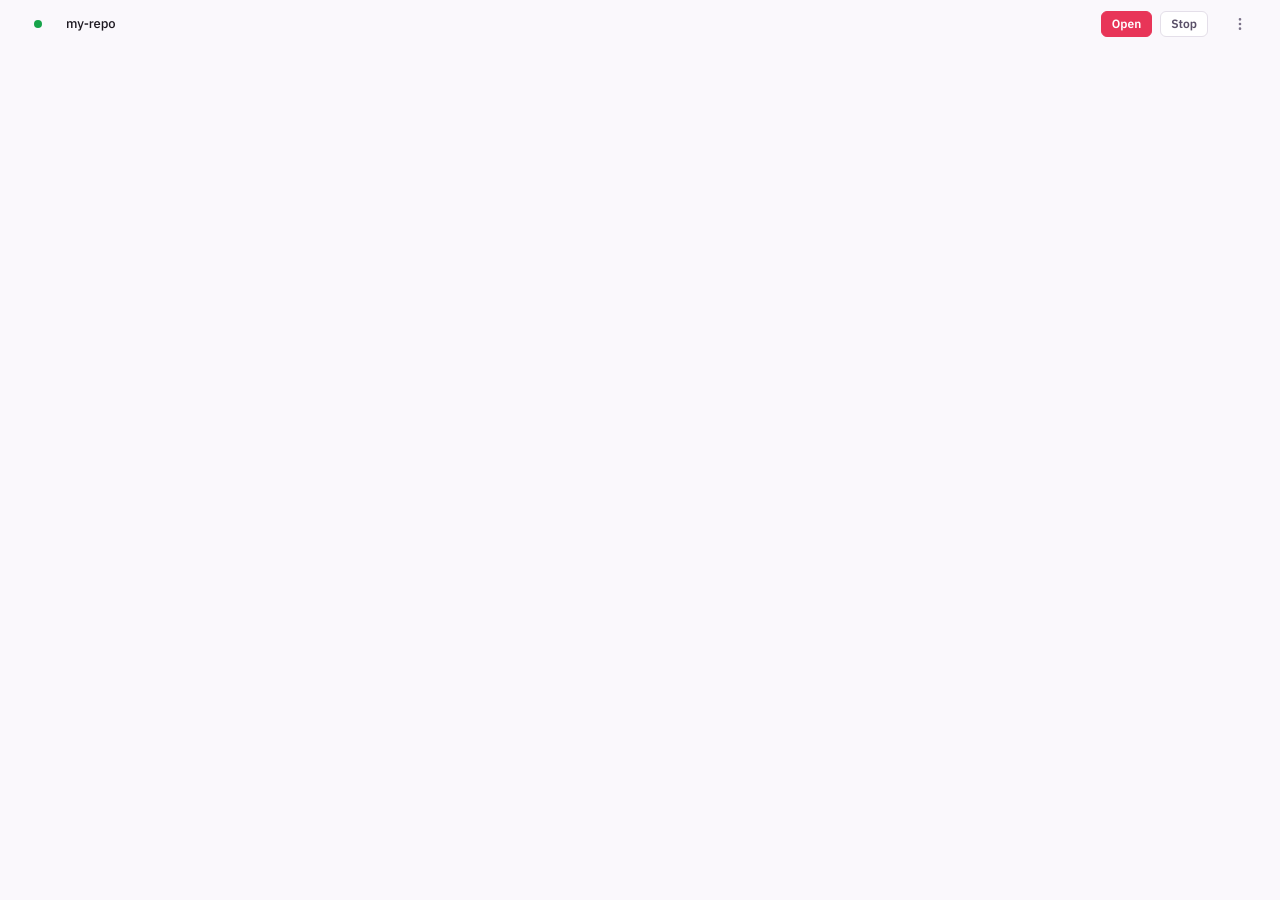
Test case: ProjectRow › always shows View Logs in menu and opens the logs modal
Click the button named "Project actions" at x=1240, y=24, box x1=1224 y1=8 x2=1256 y2=40
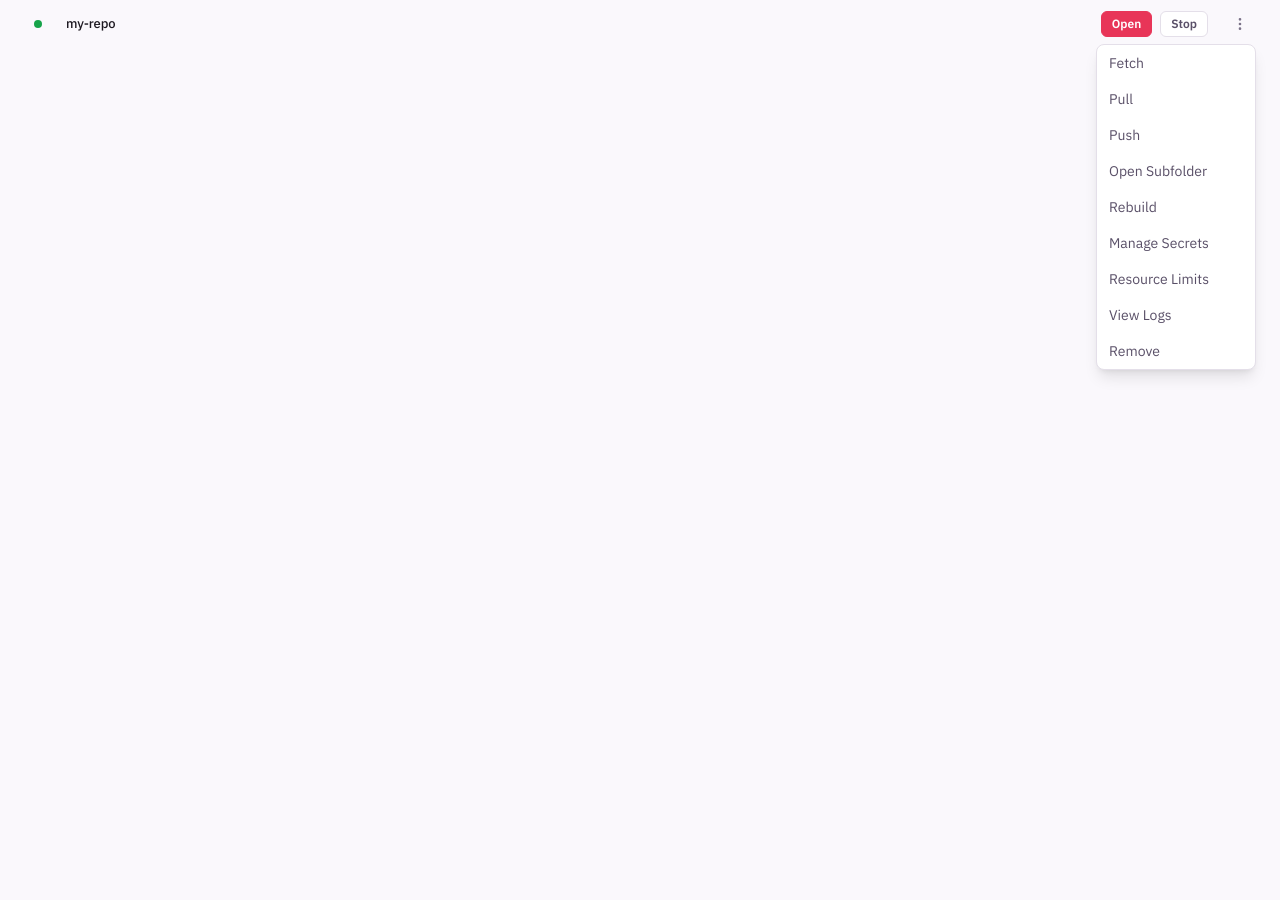
Expected: the button "View Logs" is shown
Click the button "View Logs" at x=1176, y=315, box x1=1097 y1=297 x2=1255 y2=333
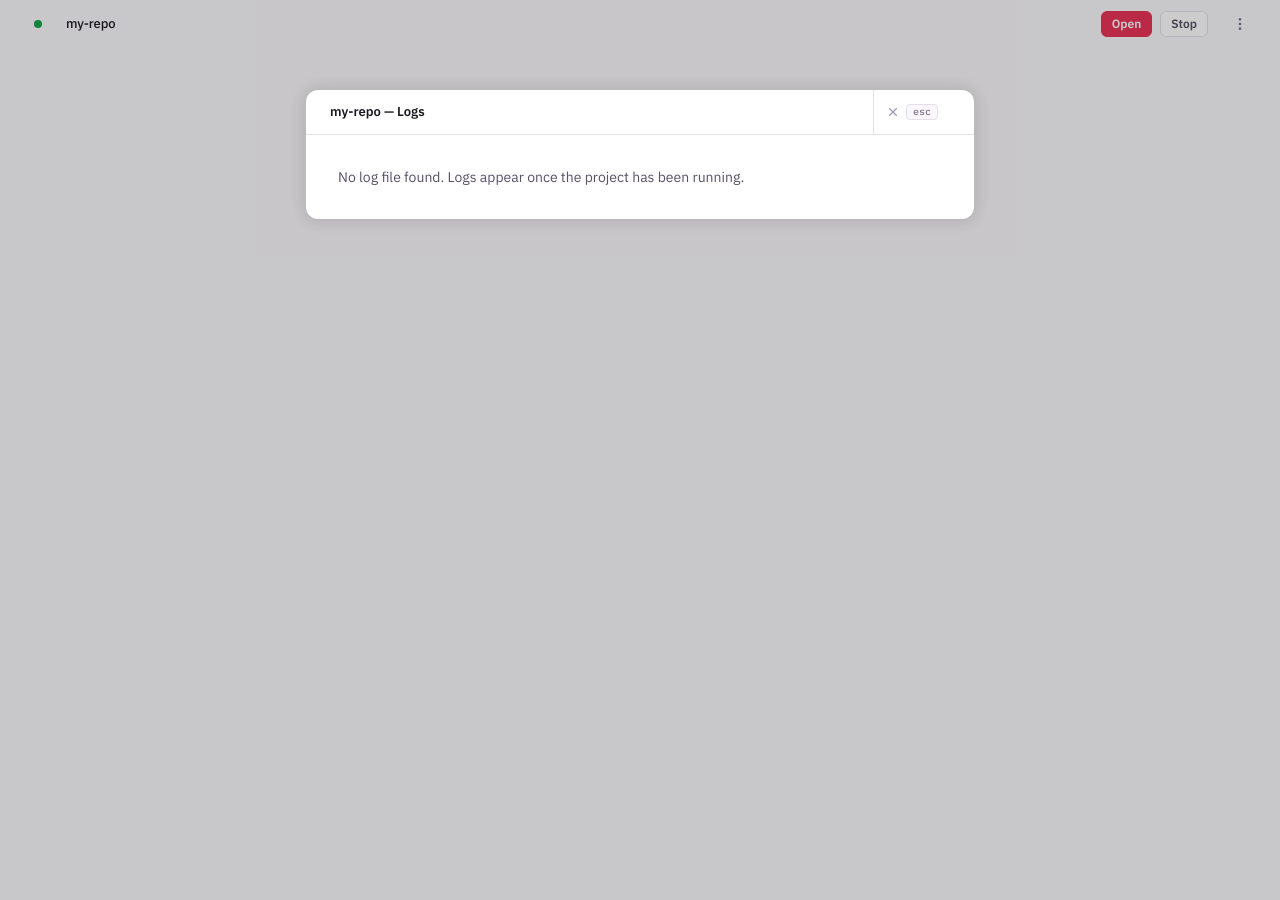
Expected: the text "my-repo — Logs" is shown, x1=330 y1=103 x2=425 y2=120
